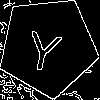Y: (23, 22, 66, 74)
